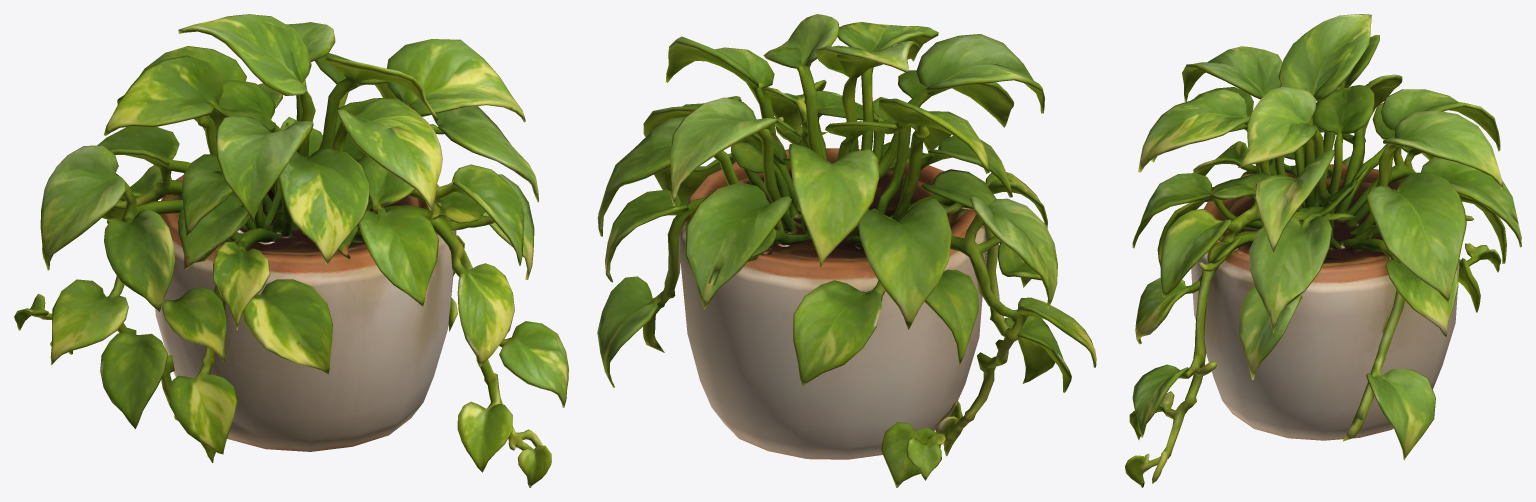
File: urban-shelf-pothos-v1.glb
3 views of the same model, side by side, from view 1: azimuth 30°, elevation 25°; view 2: azimuth 150°, elevation 25°; view 3: azimuth 270°, elevation 25° (orthographic). The views are drawn at different scales.
Parts seen in each view (by area): view 1: urban-shelf-pothos-v1; view 2: urban-shelf-pothos-v1; view 3: urban-shelf-pothos-v1.
Boxes of the visible parts, <box> form: urban-shelf-pothos-v1: <box>14,14,568,487</box>; urban-shelf-pothos-v1: <box>597,14,1096,487</box>; urban-shelf-pothos-v1: <box>1125,14,1521,487</box>.
Size of the model in its own units: 0.3173 by 0.28 by 0.2639.
Materials: 1 (1 with a texture image).
